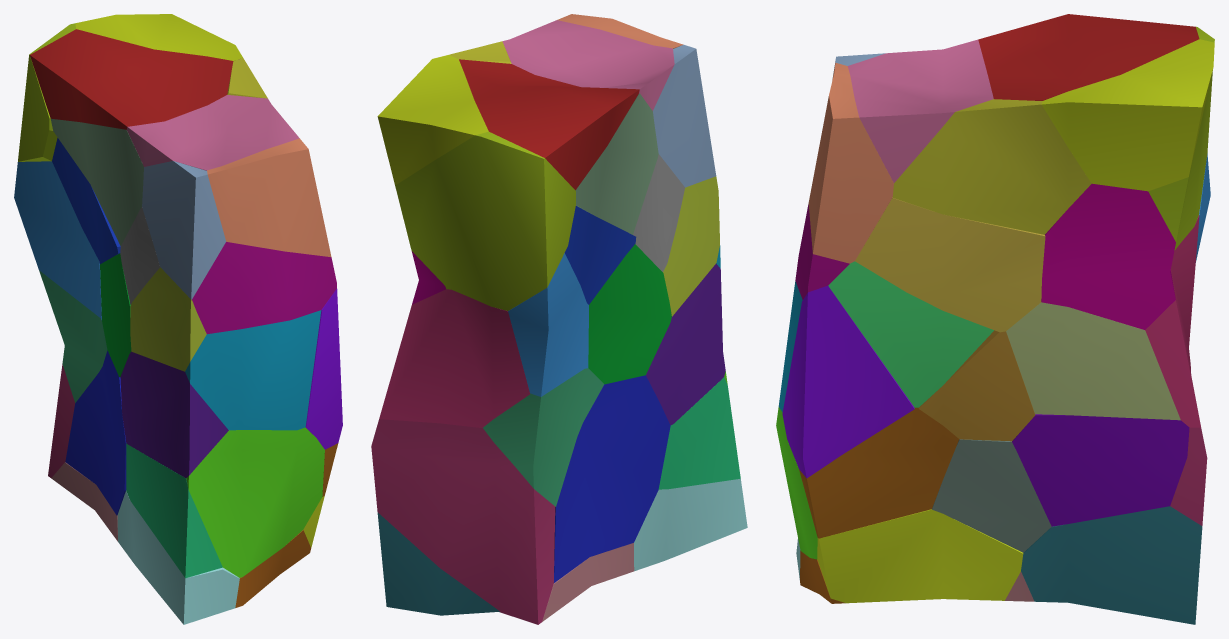
File: WallFracture_v01.fbx
The picture shows the model from 3 angles, left to right: view 1: azimuth 30°, elevation 25°; view 2: azimuth 150°, elevation 25°; view 3: azimuth 270°, elevation 25°; orthographic projection. The views are drawn at different scales.
Parts seen in each view (by area): view 1: OUT_Fracture; view 2: OUT_Fracture; view 3: OUT_Fracture.
Part boxes in pixels (x1=…): OUT_Fracture: x1=14, y1=14, x2=342, y2=624; OUT_Fracture: x1=371, y1=14, x2=747, y2=624; OUT_Fracture: x1=776, y1=14, x2=1214, y2=624.
Bounding box in the file's own units: 1.27 × 3.23 × 2.34.
